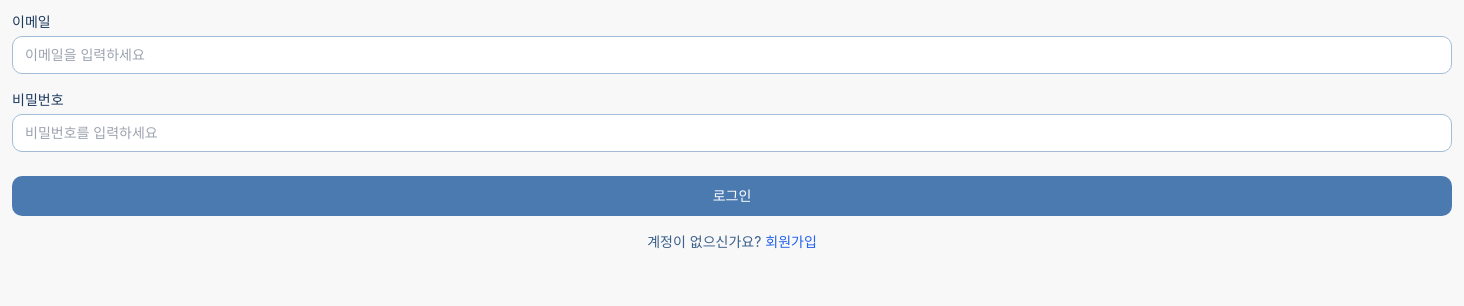
Test: LoginForm › 유효성 검증 › 빈 폼 제출 시 이메일과 비밀번호 오류 메시지를 표시한다
Click the button "로그인" at (732, 196), box x1=12 y1=176 x2=1452 y2=216
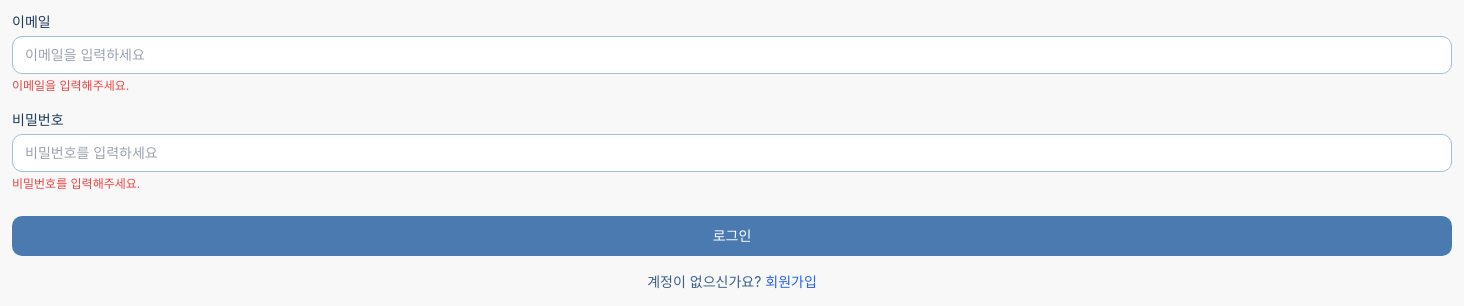
Expected: the text "이메일을 입력해주세요." is shown, x1=12 y1=78 x2=129 y2=93
Expected: the text "비밀번호를 입력해주세요." is shown, x1=12 y1=176 x2=140 y2=191
